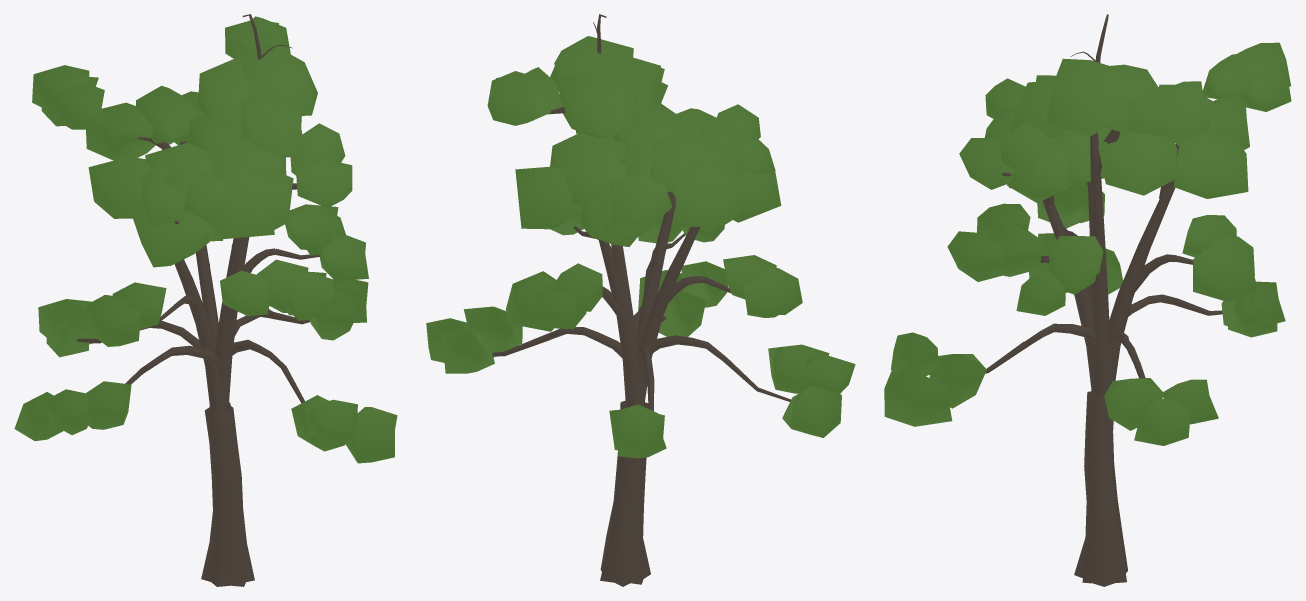
File: Blender_ChestnutOak_1_Far.glb
3 renders of one model, left to right at view 1: azimuth 30°, elevation 25°; view 2: azimuth 150°, elevation 25°; view 3: azimuth 270°, elevation 25°, orthographic. The views are drawn at different scales.
Visible parts, largest first — view 1: Blender_ChestnutOak_1_Far; view 2: Blender_ChestnutOak_1_Far; view 3: Blender_ChestnutOak_1_Far.
Part boxes in pixels (x1,y1,x2,y2): Blender_ChestnutOak_1_Far: [14, 14, 397, 586]; Blender_ChestnutOak_1_Far: [426, 14, 855, 586]; Blender_ChestnutOak_1_Far: [884, 14, 1291, 586].
Bounding box in the file's own units: 16.29 × 23.08 × 14.93.
